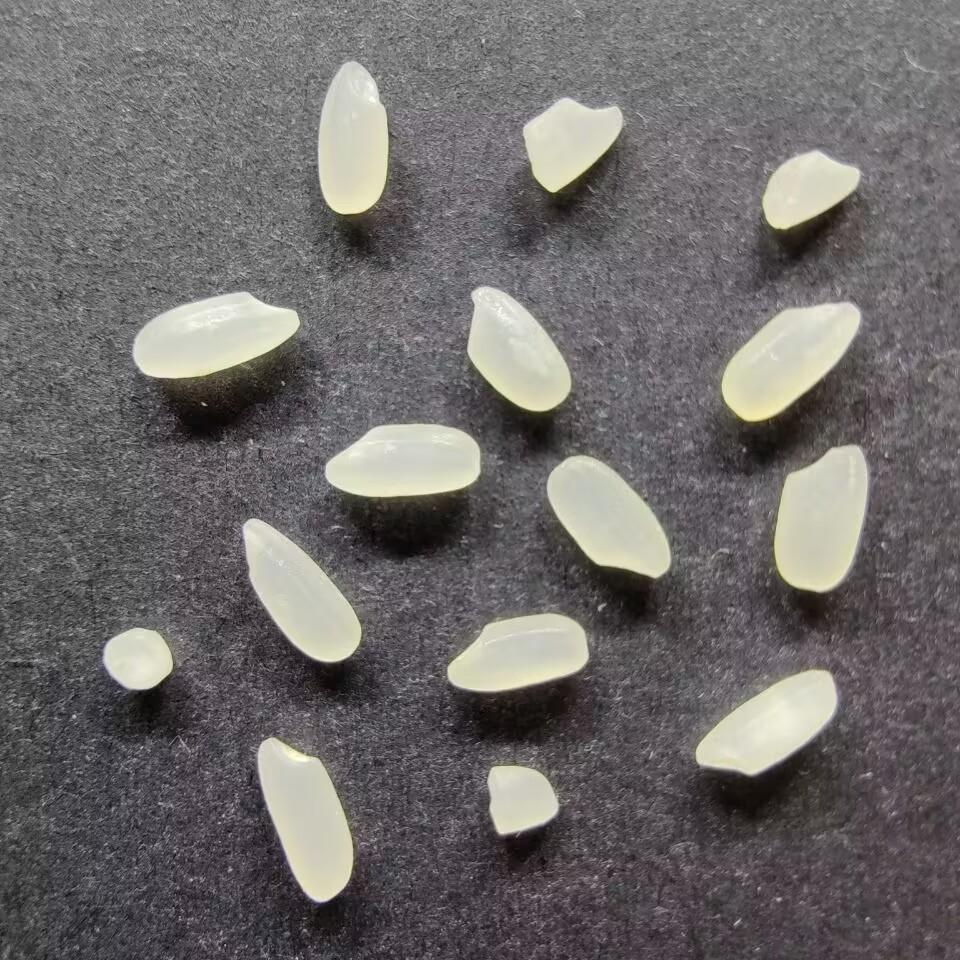broken: (520, 96, 623, 194), (761, 150, 861, 230), (486, 763, 558, 836), (102, 626, 173, 692)
rice: (240, 517, 361, 663), (719, 300, 861, 422), (255, 736, 353, 904), (545, 454, 671, 579), (693, 669, 837, 776), (131, 290, 300, 379), (772, 442, 869, 592), (465, 285, 572, 412), (323, 422, 481, 498), (445, 612, 588, 693), (316, 60, 388, 214)
